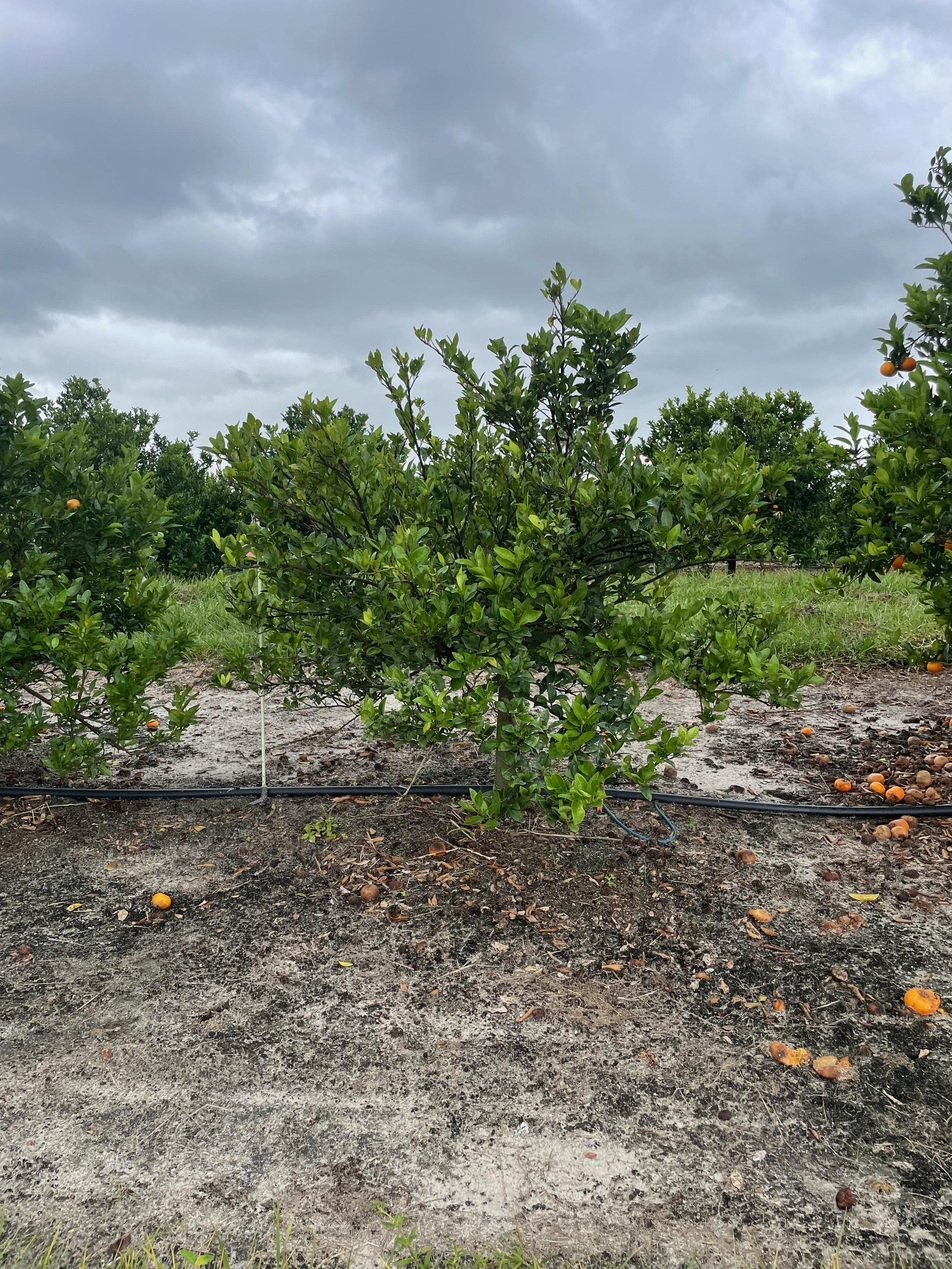fruit_on_ground: (938, 526, 952, 559), (889, 551, 909, 572), (896, 355, 918, 373), (879, 360, 898, 379), (924, 657, 944, 675), (65, 497, 81, 513), (753, 507, 760, 513), (772, 503, 779, 509)
fruit_on_tree: (765, 1038, 811, 1070), (903, 984, 940, 1015), (811, 1052, 844, 1080), (735, 846, 758, 866), (151, 890, 172, 911), (360, 881, 382, 901), (425, 839, 448, 858), (888, 816, 909, 836), (872, 823, 893, 842), (914, 768, 934, 787), (930, 753, 951, 771), (885, 784, 905, 802), (749, 907, 774, 921), (833, 776, 853, 793), (868, 779, 888, 795), (821, 867, 840, 883), (892, 754, 912, 769), (770, 996, 787, 1013), (891, 825, 909, 841), (900, 813, 919, 828), (812, 752, 831, 766), (865, 772, 885, 785), (144, 717, 161, 730), (842, 701, 858, 713), (800, 724, 814, 736)
